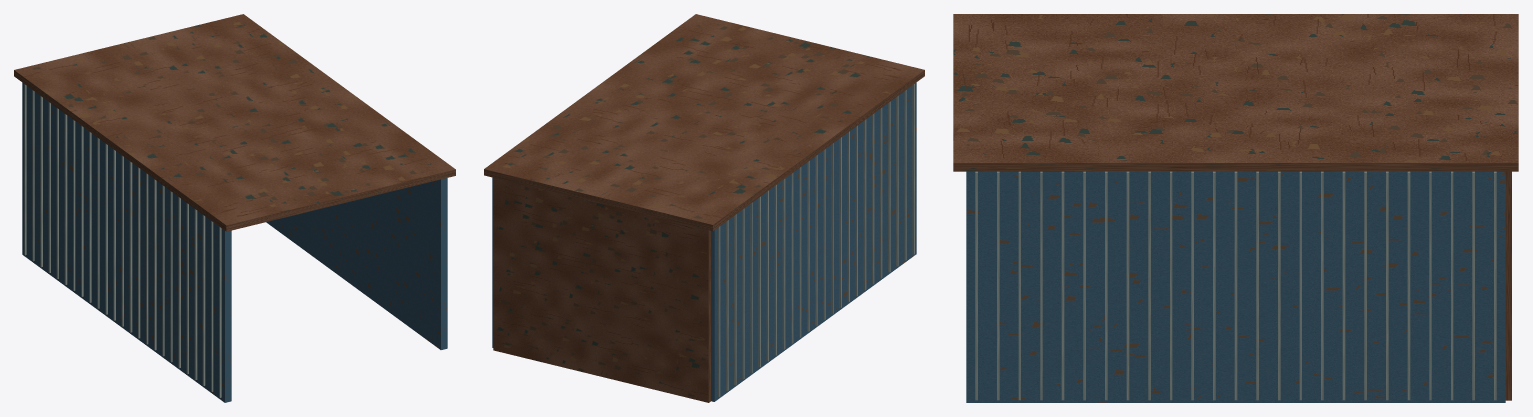
File: CIS_GarageShell.obj
3 renders of one model, left to right at view 1: azimuth 30°, elevation 25°; view 2: azimuth 150°, elevation 25°; view 3: azimuth 270°, elevation 25°, orthographic. The views are drawn at different scales.
Visible parts, largest first — view 1: CIS_GarageShell; view 2: CIS_GarageShell; view 3: CIS_GarageShell.
Part boxes in pixels (x1,y1,x2,y2): CIS_GarageShell: [14, 14, 455, 402]; CIS_GarageShell: [484, 14, 924, 402]; CIS_GarageShell: [953, 14, 1518, 402].
Size of the model in its own units: 3.4 by 2.58 by 5.45.
3 materials, 3 textured.
